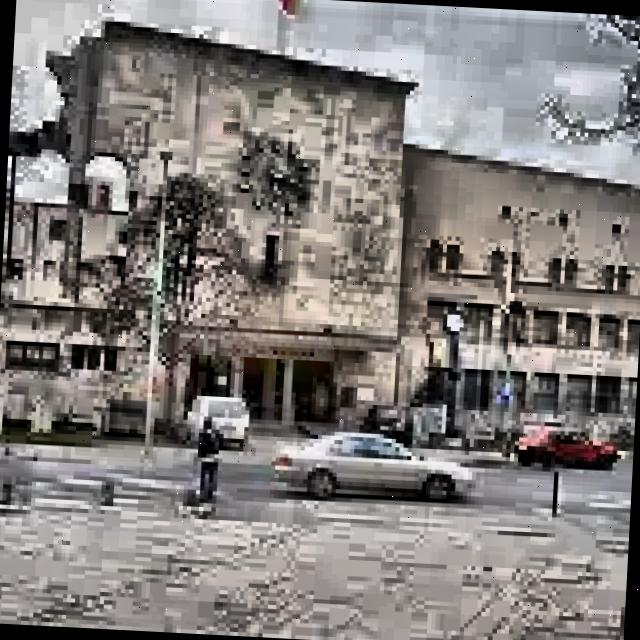old railway: (2, 25, 640, 456)
